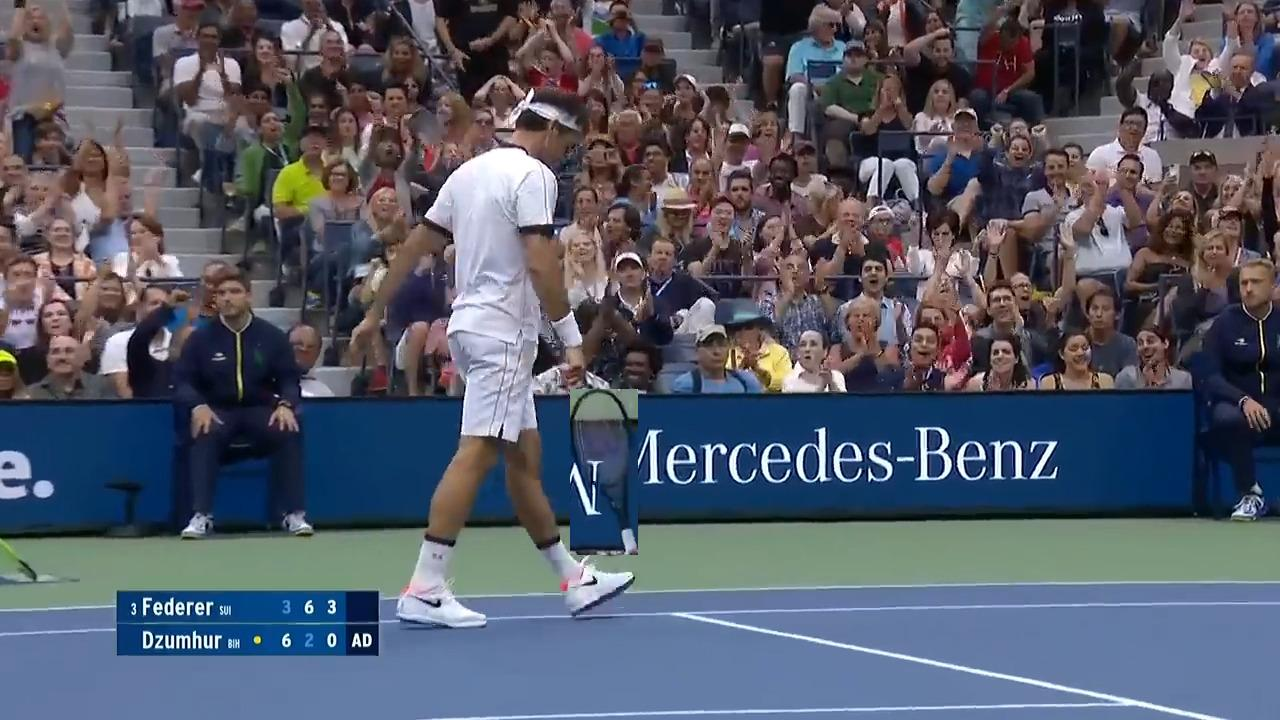tennis racket: (570, 390, 638, 555)
